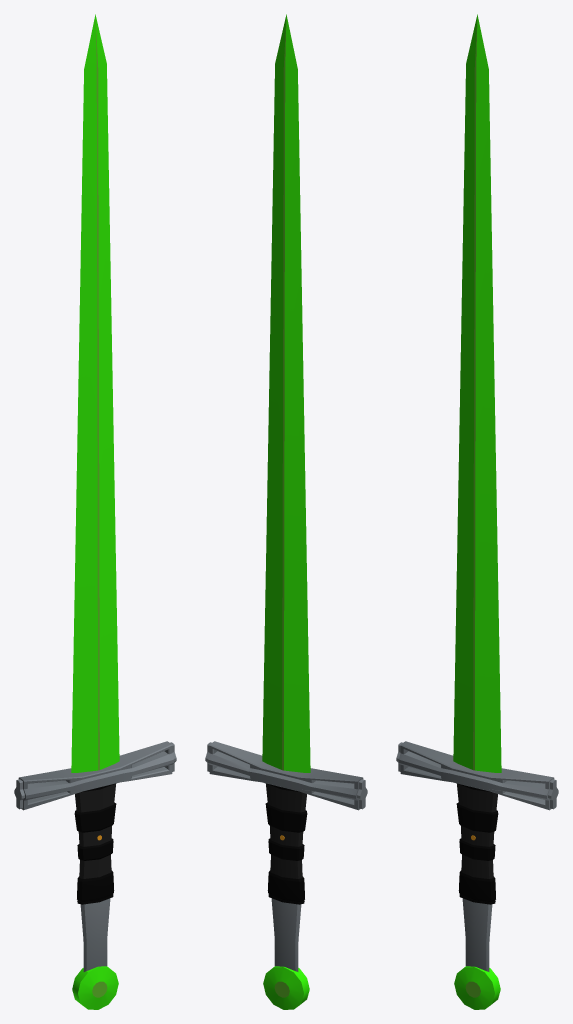
Rendered from SM_Sword11_GoticBastard_7Fantasy_Green.fbx.
3 renders of one model, left to right at view 1: azimuth 30°, elevation 25°; view 2: azimuth 150°, elevation 25°; view 3: azimuth 330°, elevation 25°, orthographic.
Parts seen in each view (by area): view 1: Cube.295, Cylinder.955, Cube.296, Cylinder.325; view 2: Cube.295, Cylinder.955, Cube.296, Cylinder.325; view 3: Cube.295, Cylinder.955, Cube.296, Cylinder.325.
Part boxes in pixels (x1,y1,x2,y2): Cube.295: (71, 14, 119, 772); Cylinder.955: (74, 783, 116, 971); Cube.296: (14, 741, 176, 810); Cylinder.325: (72, 966, 118, 1009); Cube.295: (262, 14, 310, 772); Cylinder.955: (265, 783, 307, 971); Cube.296: (205, 741, 367, 810); Cylinder.325: (263, 966, 309, 1009); Cube.295: (453, 14, 501, 772); Cylinder.955: (456, 783, 498, 971); Cube.296: (396, 741, 558, 810); Cylinder.325: (454, 966, 500, 1009).
Size of the model in its own units: 0.1979 by 1.21 by 0.037.
